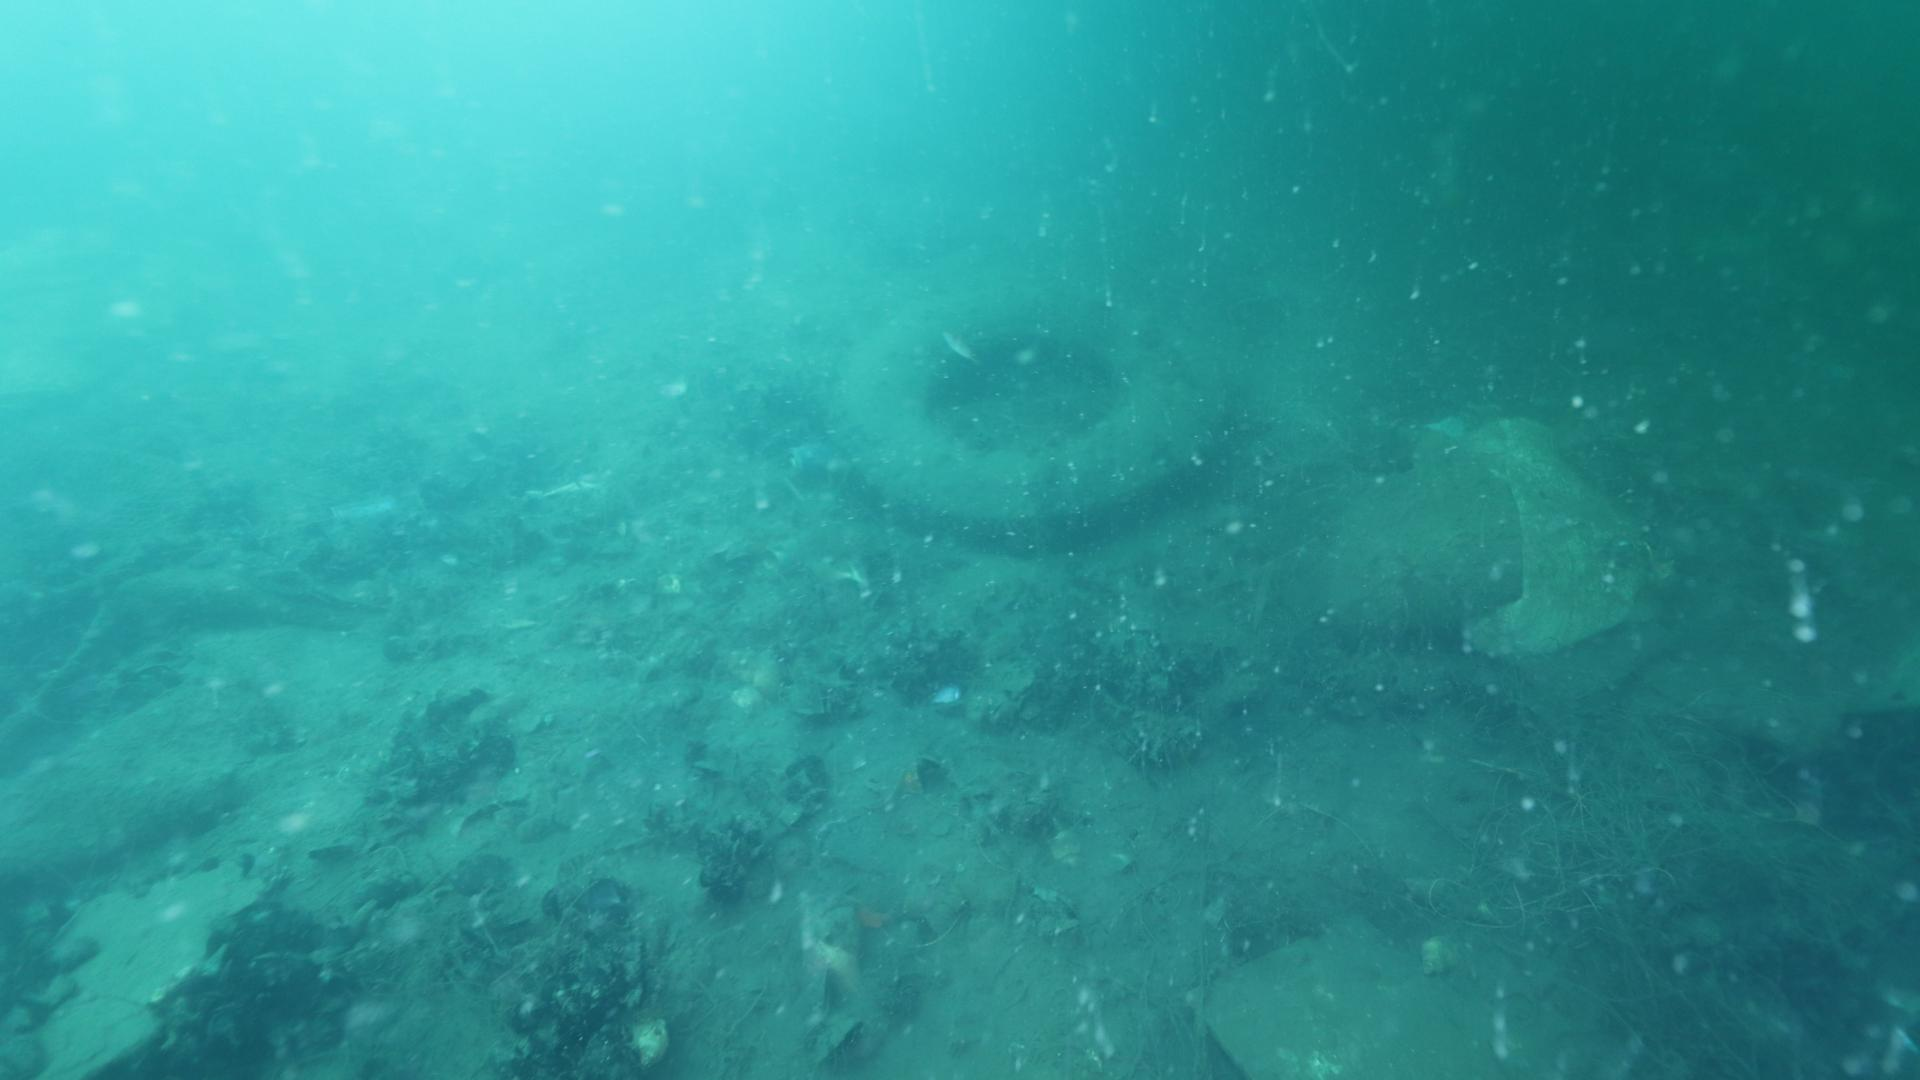tire: (828, 290, 1242, 543)
